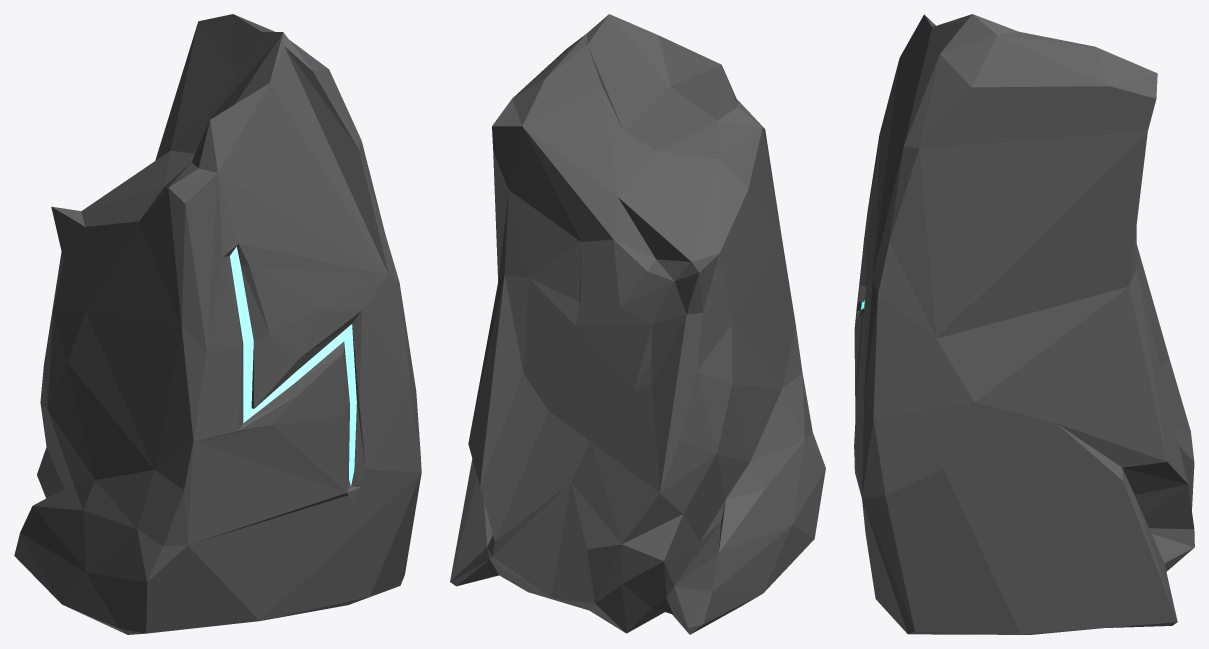
The model's file is SFNP_Runestone_006.fbx.
3 views of the same model, side by side, from view 1: azimuth 30°, elevation 25°; view 2: azimuth 150°, elevation 25°; view 3: azimuth 270°, elevation 25° (orthographic). The views are drawn at different scales.
Parts seen in each view (by area): view 1: SFNP_Runestone_006; view 2: SFNP_Runestone_006; view 3: SFNP_Runestone_006.
Part boxes in pixels (x1,y1,x2,y2): SFNP_Runestone_006: (14,14,421,634); SFNP_Runestone_006: (450,14,825,634); SFNP_Runestone_006: (854,14,1194,634).
Bounding box in the file's own units: 65.31 × 122 × 63.43.
